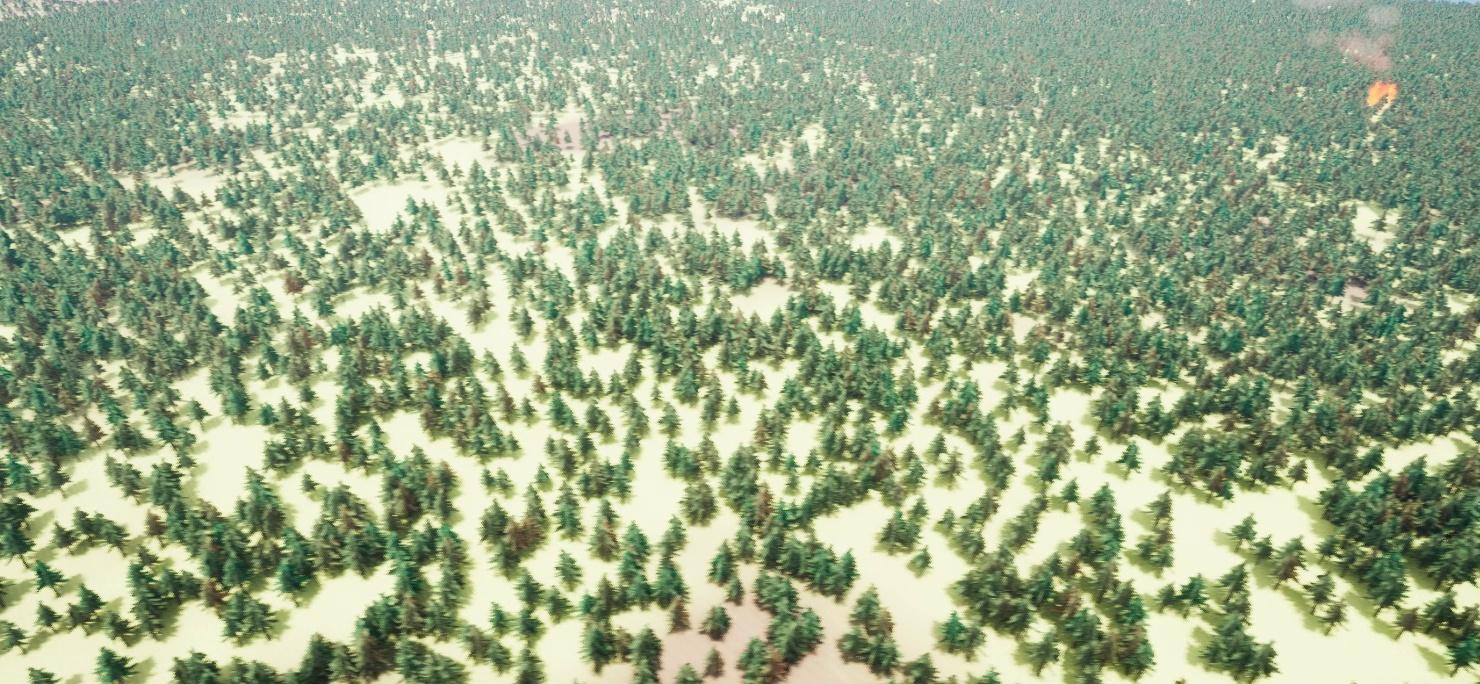fire: (1367, 79, 1402, 110)
smoke: (1300, 0, 1398, 82)
